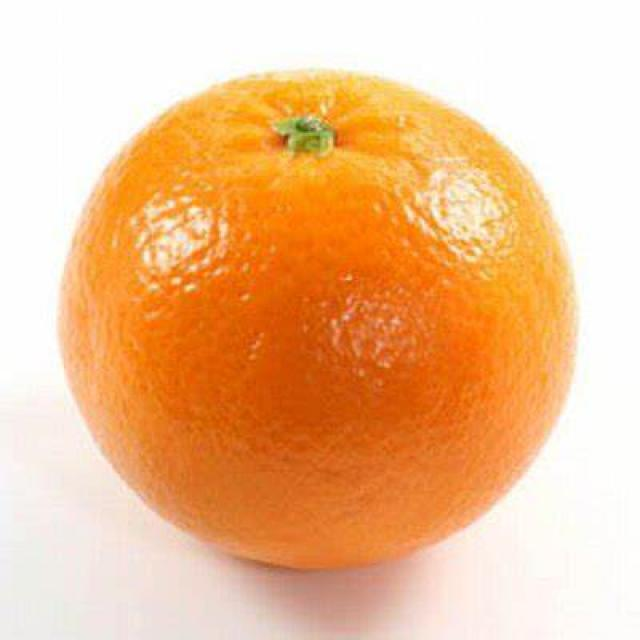Orange: (56, 67, 581, 571)
